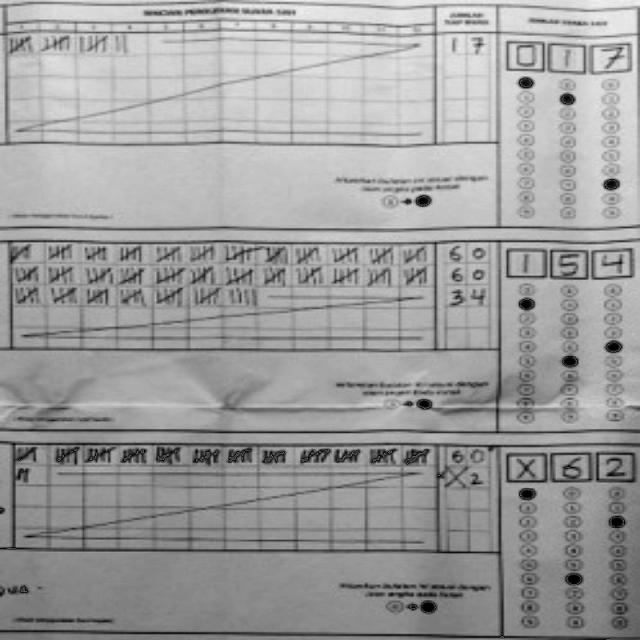Suara: (498, 440, 633, 485), (498, 34, 633, 75), (503, 246, 627, 280)
